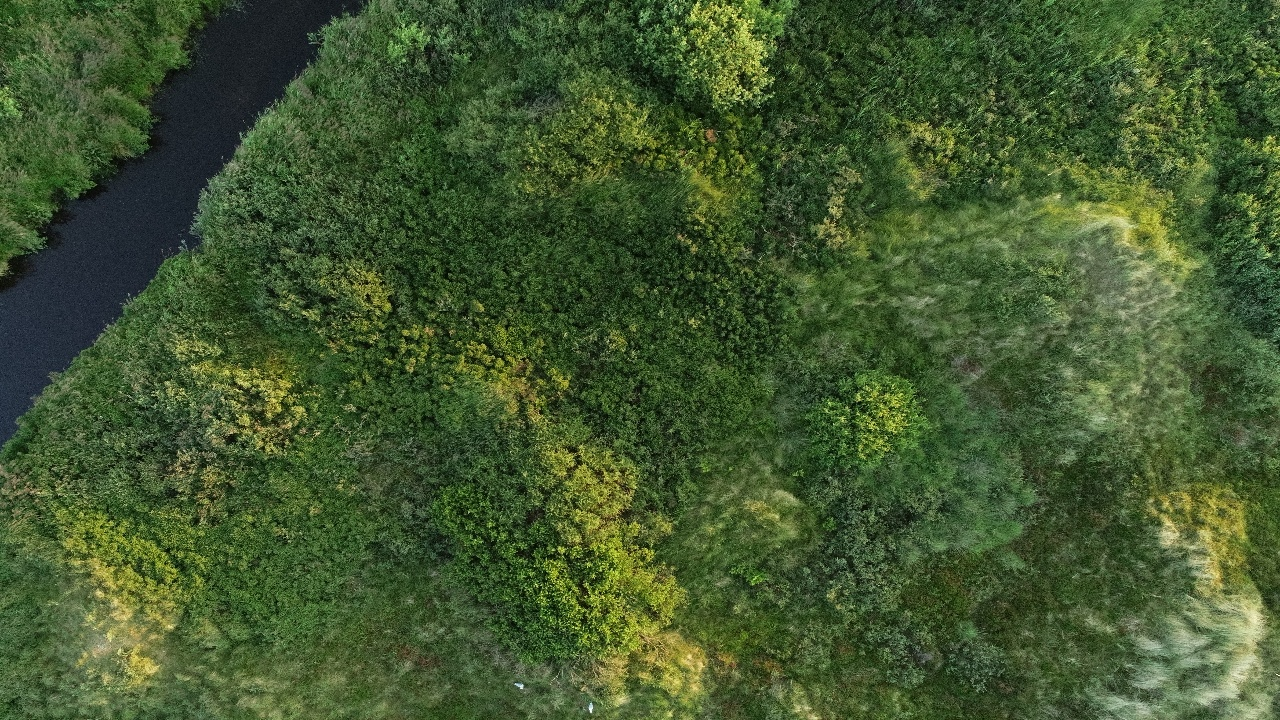Bird: (507, 674, 531, 696), (579, 696, 603, 718)
